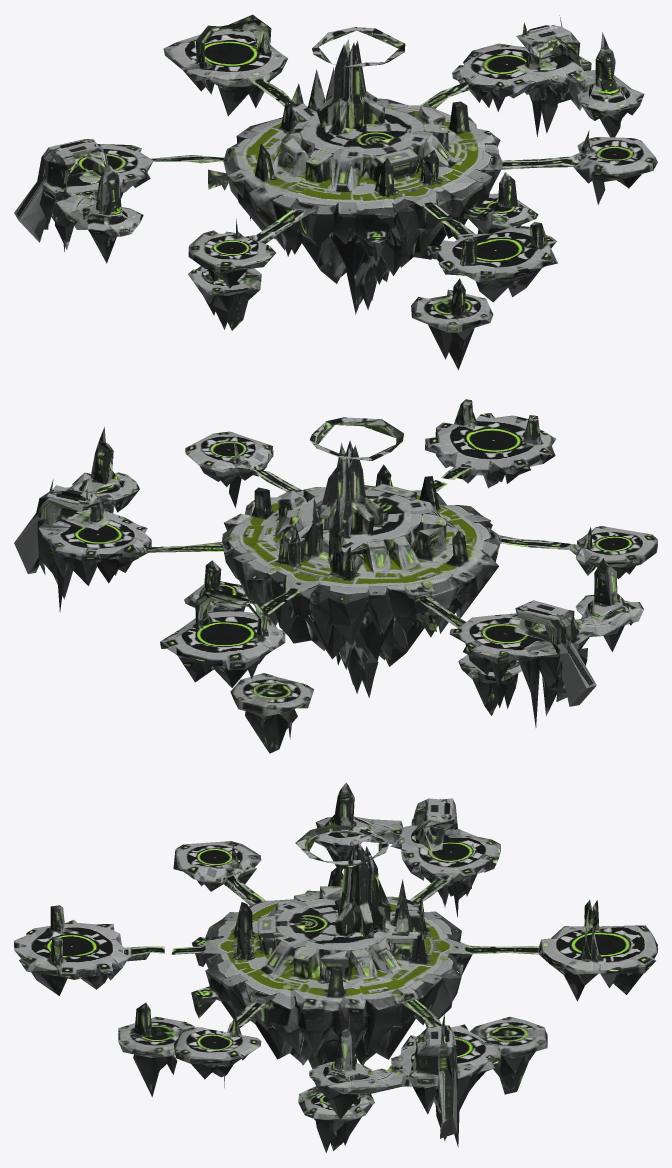
The model's file is Meshy_AI_Emerald_Sky_Nexus_1018164348_texture.glb.
3 views of the same model, one above another, from view 1: azimuth 30°, elevation 25°; view 2: azimuth 150°, elevation 25°; view 3: azimuth 270°, elevation 25° (orthographic).
Visible parts, largest first — view 1: output_unwrapped; view 2: output_unwrapped; view 3: output_unwrapped.
Part boxes in pixels (x1=…): output_unwrapped: x1=14, y1=14, x2=657, y2=370; output_unwrapped: x1=14, y1=399, x2=657, y2=753; output_unwrapped: x1=14, y1=782, x2=657, y2=1152.
Size of the model in its own units: 1.82 by 0.7871 by 1.76.
Materials: 1 (1 with a texture image).
